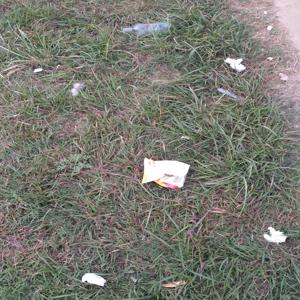plastic: (130, 153, 198, 202), (67, 260, 108, 286), (260, 219, 290, 253), (226, 50, 259, 71), (72, 81, 101, 97)
plastic bottle: (114, 12, 181, 43)
